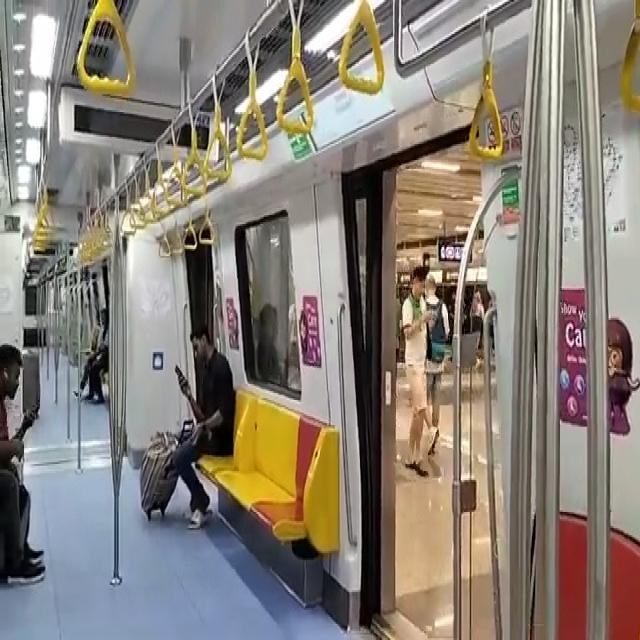bus-door: (343, 168, 527, 640)
